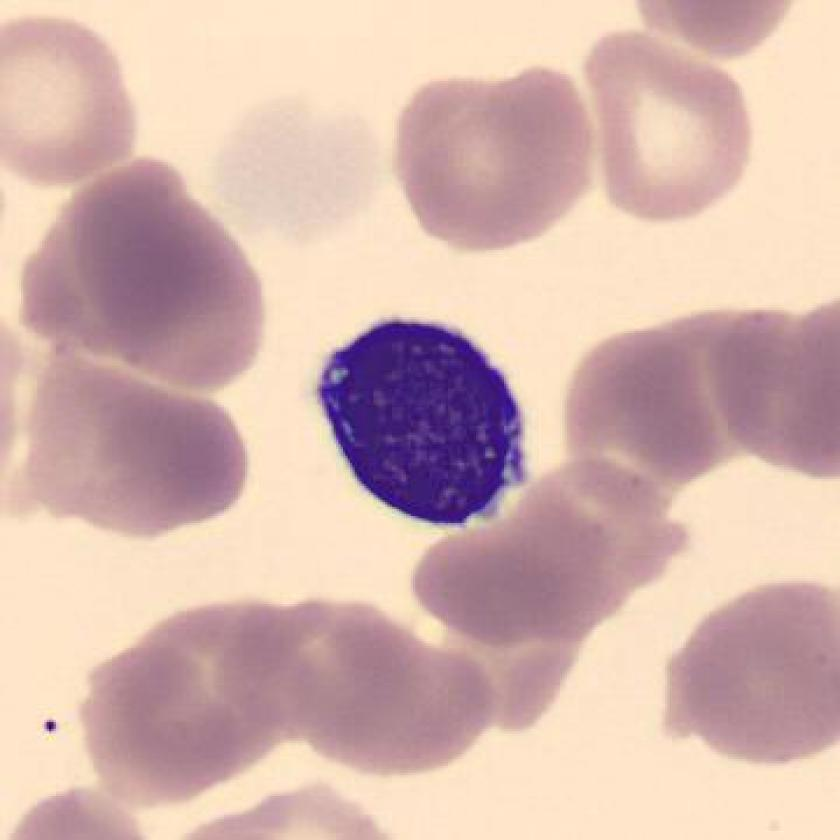lymphocyte: (300, 304, 547, 543)
